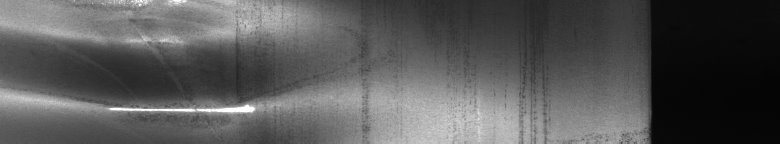ke: (4, 4, 304, 128)
